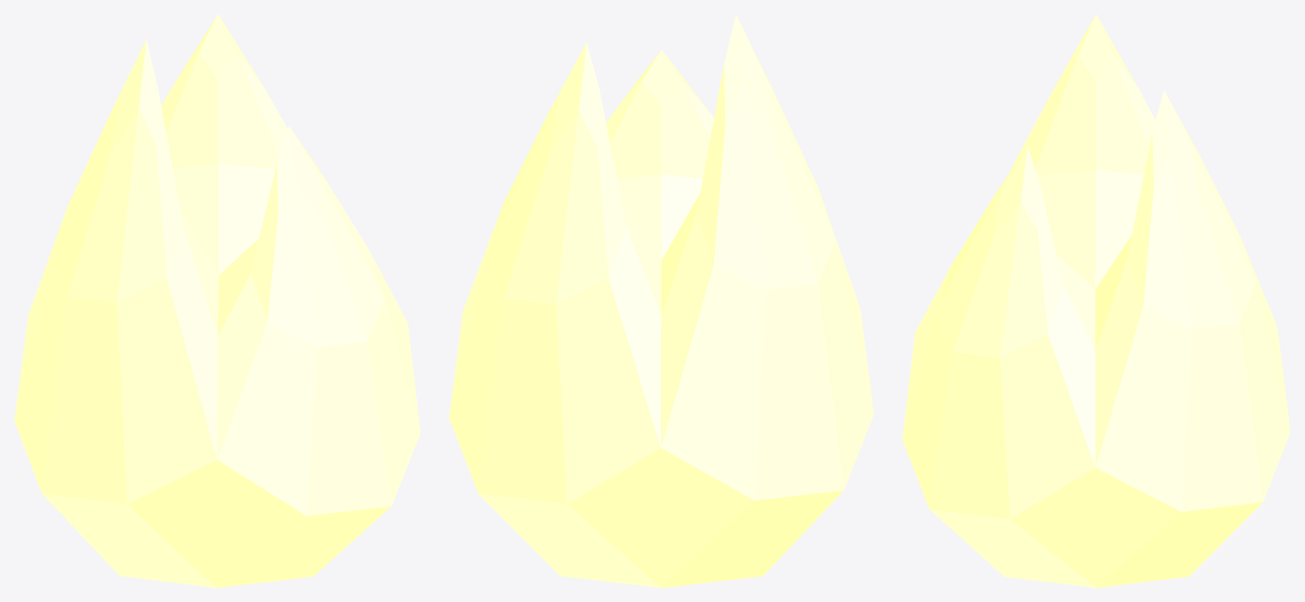
The model's file is theLight.fbx.
3 views of the same model, side by side, from view 1: azimuth 30°, elevation 25°; view 2: azimuth 150°, elevation 25°; view 3: azimuth 270°, elevation 25° (orthographic). The views are drawn at different scales.
Visible parts, largest first — view 1: Cube.001; view 2: Cube.001; view 3: Cube.001.
Part boxes in pixels (x1,y1,x2,y2): Cube.001: [14, 14, 420, 587]; Cube.001: [449, 14, 873, 587]; Cube.001: [902, 14, 1290, 587].
Size of the model in its own units: 231 by 327 by 223.
